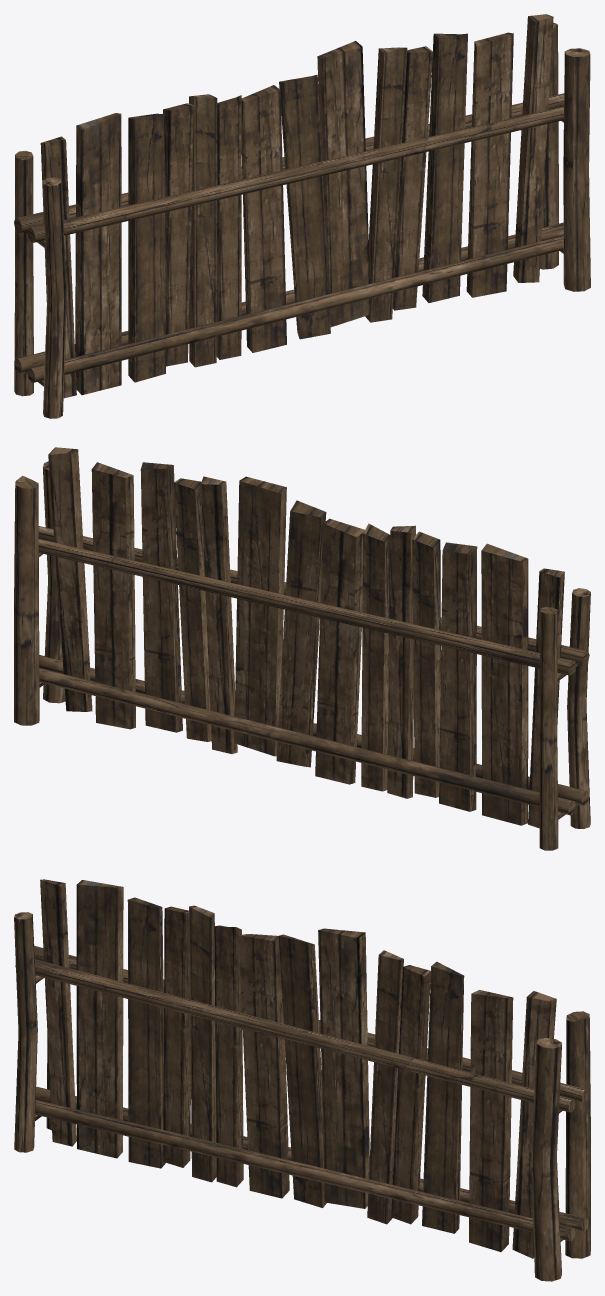
The model's file is Fence_W3_v4.gltf.
3 renders of one model, top to bottom at view 1: azimuth 30°, elevation 25°; view 2: azimuth 150°, elevation 25°; view 3: azimuth 330°, elevation 25°, orthographic.
Parts seen in each view (by area): view 1: Fence_W3_v4(Clone); view 2: Fence_W3_v4(Clone); view 3: Fence_W3_v4(Clone).
Part boxes in pixels (bbox=[...]): Fence_W3_v4(Clone): bbox=[14, 14, 590, 418]; Fence_W3_v4(Clone): bbox=[14, 447, 590, 850]; Fence_W3_v4(Clone): bbox=[14, 879, 590, 1281].
Size of the model in its own units: 3.01 by 1.46 by 0.4317.
1 material, 1 textured.
